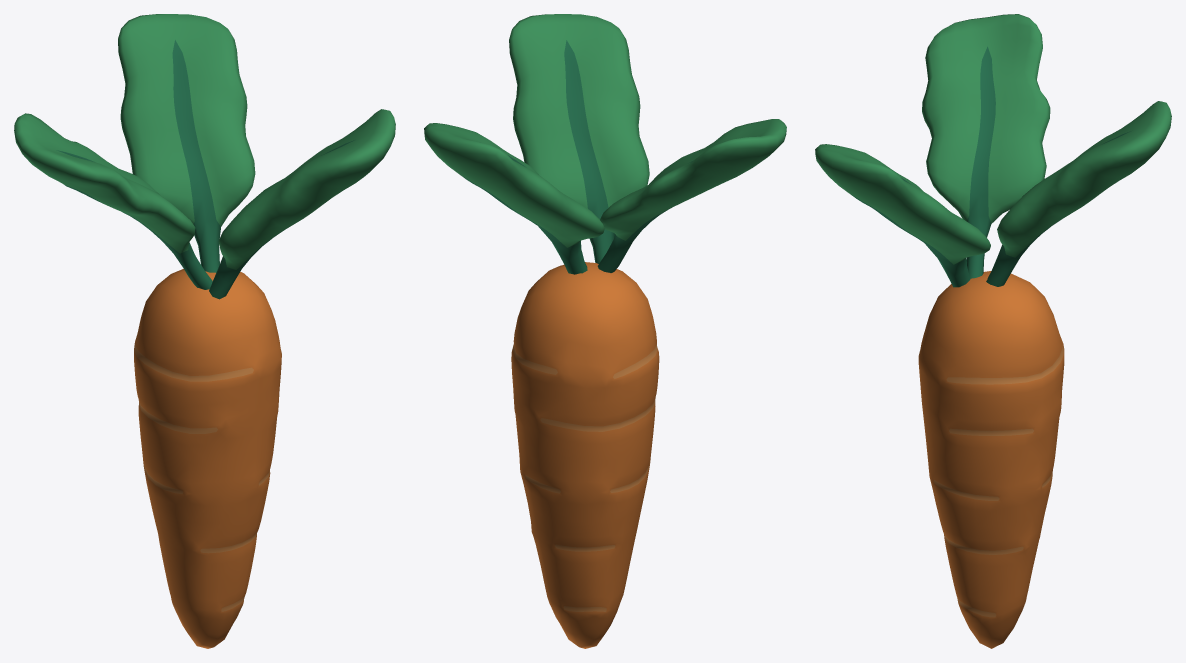
File: Carrot_01.dae
3 views of the same model, side by side, from view 1: azimuth 30°, elevation 25°; view 2: azimuth 150°, elevation 25°; view 3: azimuth 270°, elevation 25° (orthographic). The views are drawn at different scales.
Visible parts, largest first — view 1: Carrot_01_LOD0; view 2: Carrot_01_LOD0; view 3: Carrot_01_LOD0.
Part boxes in pixels (box(x1,y1,x2,y2)): Carrot_01_LOD0: box(14, 14, 395, 648); Carrot_01_LOD0: box(424, 14, 786, 648); Carrot_01_LOD0: box(815, 14, 1171, 648).
Size of what is drawn, in the model's own units: 4.84 by 4.83 by 8.26.
